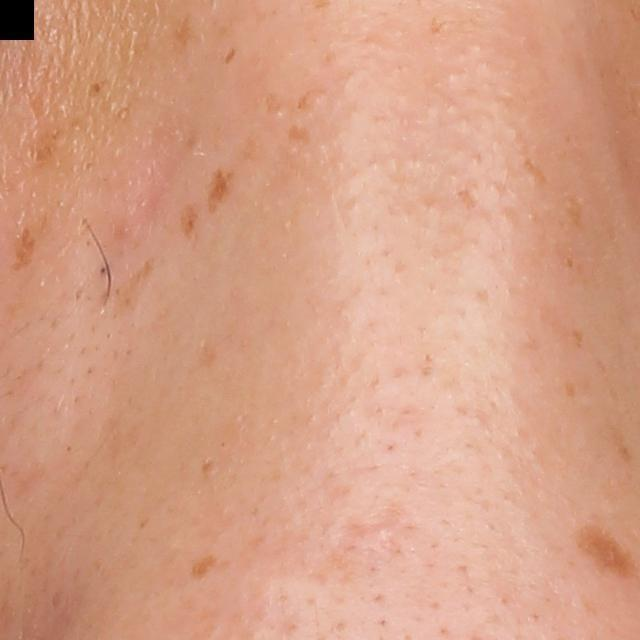melasma: (574, 519, 636, 583), (30, 124, 72, 167), (554, 189, 589, 231), (518, 151, 557, 186), (188, 551, 219, 589), (181, 193, 205, 242), (8, 227, 36, 267), (292, 85, 332, 113), (209, 169, 231, 216), (172, 10, 198, 49), (284, 123, 316, 149), (262, 89, 286, 121), (83, 77, 113, 101), (457, 186, 479, 211), (224, 44, 238, 67)
